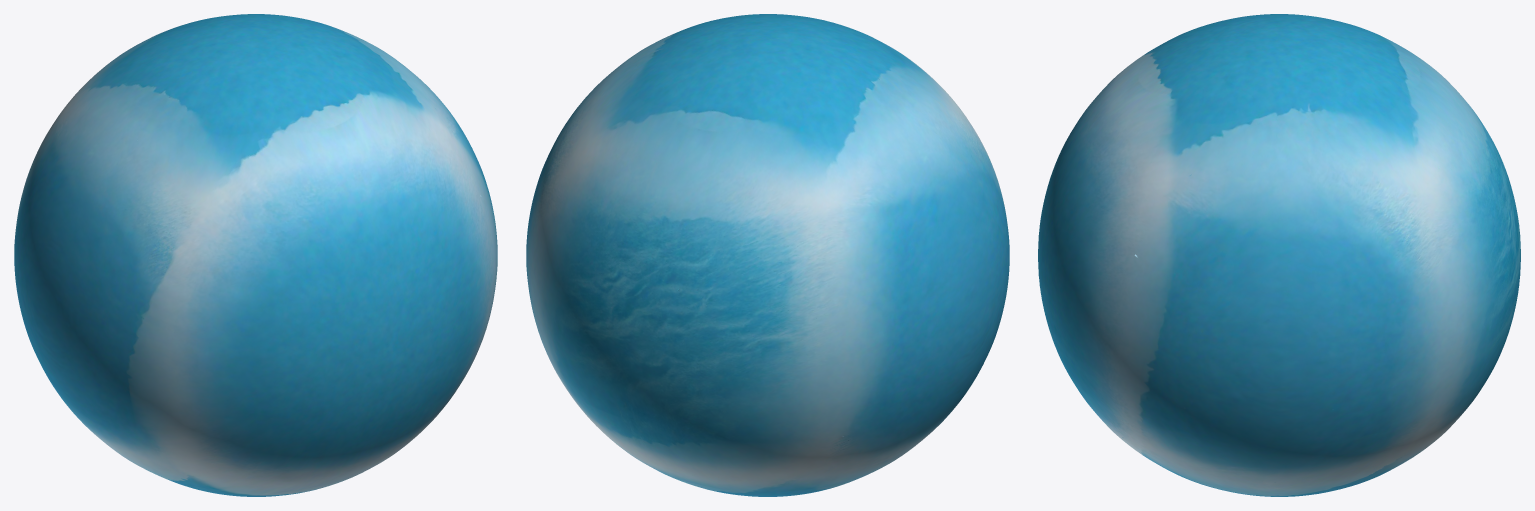
Rendered from 擦拭棉球.glb.
3 views of the same model, side by side, from view 1: azimuth 30°, elevation 25°; view 2: azimuth 150°, elevation 25°; view 3: azimuth 270°, elevation 25° (orthographic).
Size of the model in its own units: 2 by 2 by 2.
Materials: 1 (1 with a texture image).
